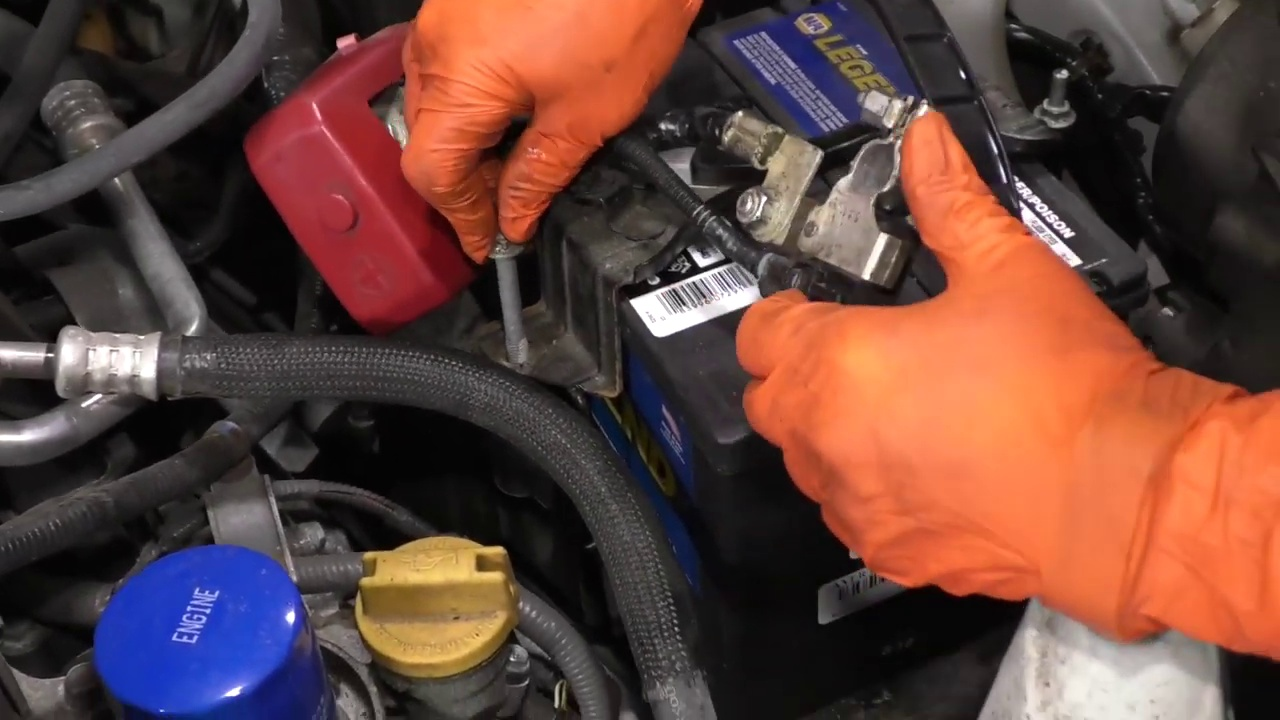battery: (485, 14, 1166, 444)
